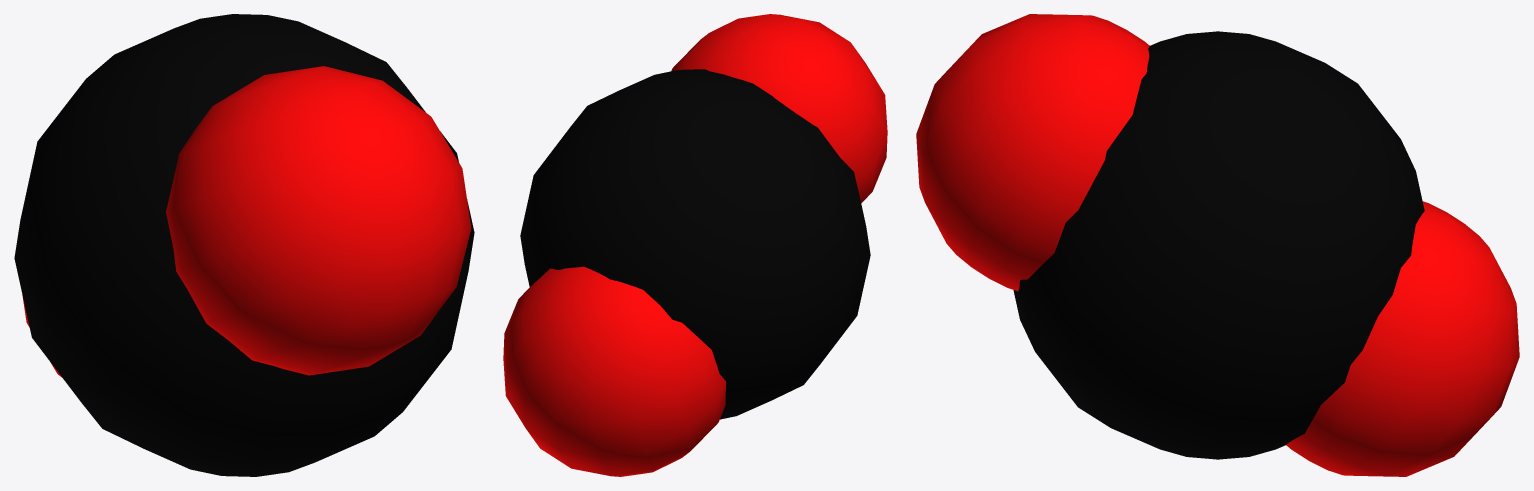
3 views of the same model, side by side, from view 1: azimuth 30°, elevation 25°; view 2: azimuth 150°, elevation 25°; view 3: azimuth 270°, elevation 25° (orthographic). The views are drawn at different scales.
Parts seen in each view (by area): view 1: CO2.001; view 2: CO2.001; view 3: CO2.001.
Boxes of the visible parts, x1=… form: CO2.001: x1=14, y1=14, x2=474, y2=476; CO2.001: x1=503, y1=14, x2=887, y2=476; CO2.001: x1=916, y1=14, x2=1519, y2=476.
Bounding box in the file's own units: 200 × 219 × 282.
